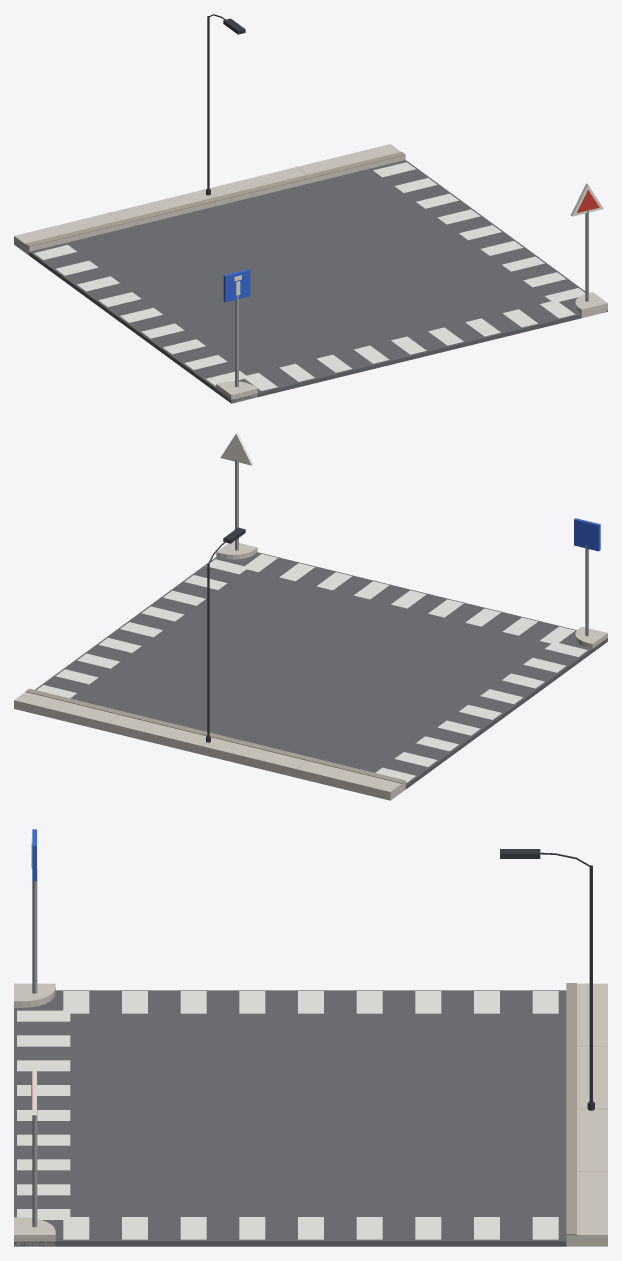
The model's file is Yol_t_cc_Hafif.fbx.
The picture shows the model from 3 angles, top to bottom: view 1: azimuth 30°, elevation 25°; view 2: azimuth 150°, elevation 25°; view 3: azimuth 270°, elevation 25°; orthographic projection. The views are drawn at different scales.
Visible parts, largest first — view 1: Yol_t_cc_Hafif; view 2: Yol_t_cc_Hafif; view 3: Yol_t_cc_Hafif.
Boxes of the visible parts, x1,y1,x2,y2 form: Yol_t_cc_Hafif: (14, 14, 607, 403); Yol_t_cc_Hafif: (14, 432, 607, 800); Yol_t_cc_Hafif: (14, 829, 607, 1246).
Bounding box in the file's own units: 10.07 × 5.01 × 10.
